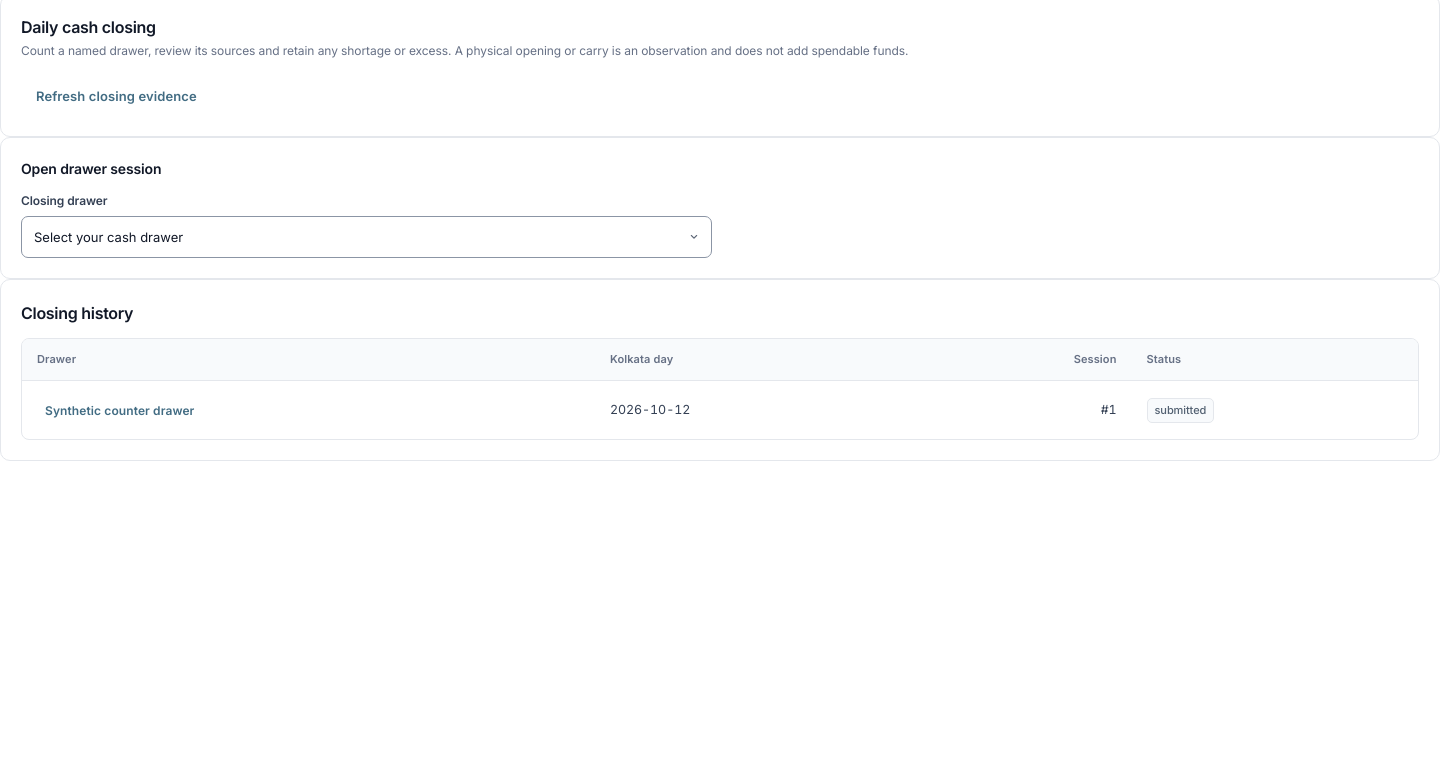
it: cash closing controlled transport and evidence validation › requires labelled sole-admin acknowledgment and distinguishes the persisted review mode
The image size is (1440, 784).
Click the button with aria-label "Synthetic counter drawer ·" at (120, 410), box [37, 393, 202, 427]
(page scrolled)
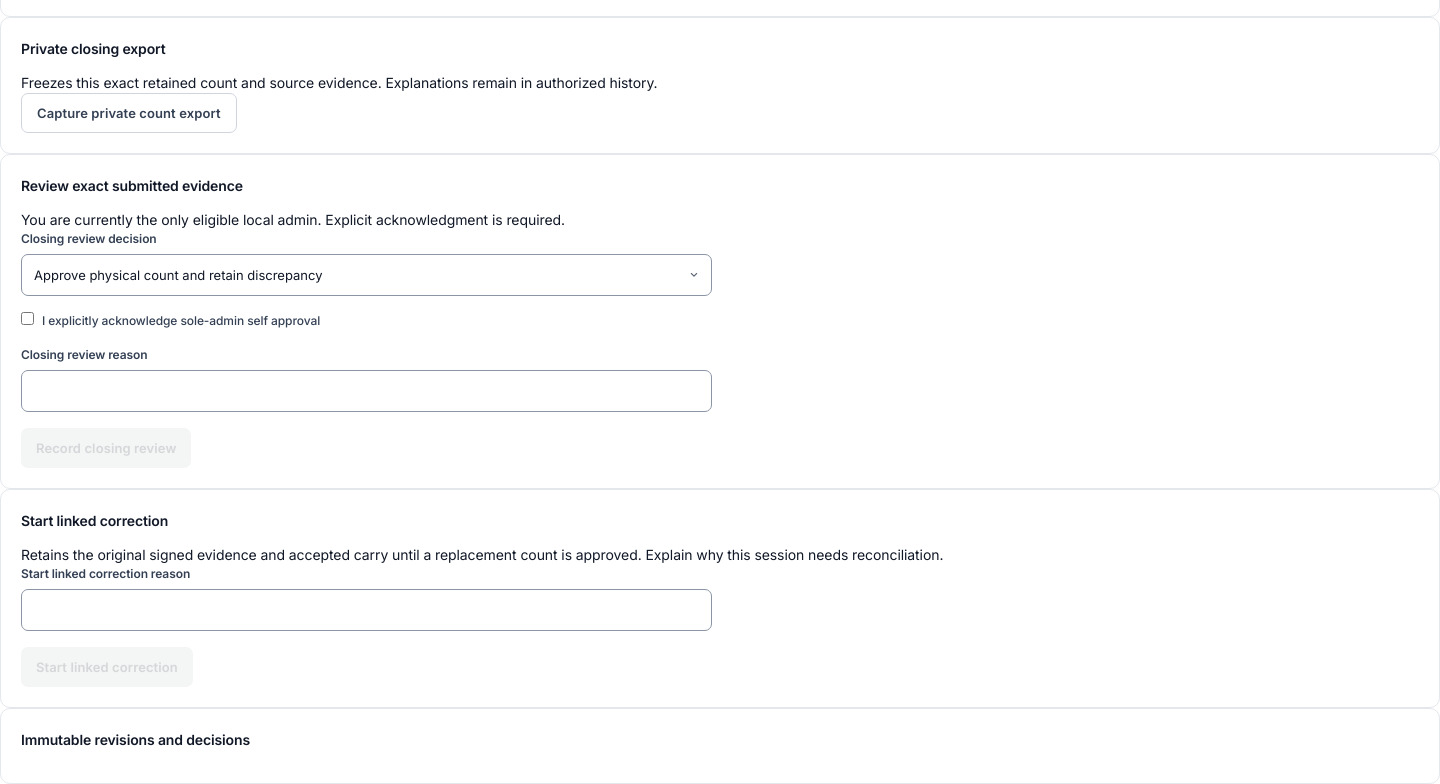
Type "Reviewed all source and count evidence" into the field labelled "Closing review reason" at (366, 391), box [21, 370, 712, 412]
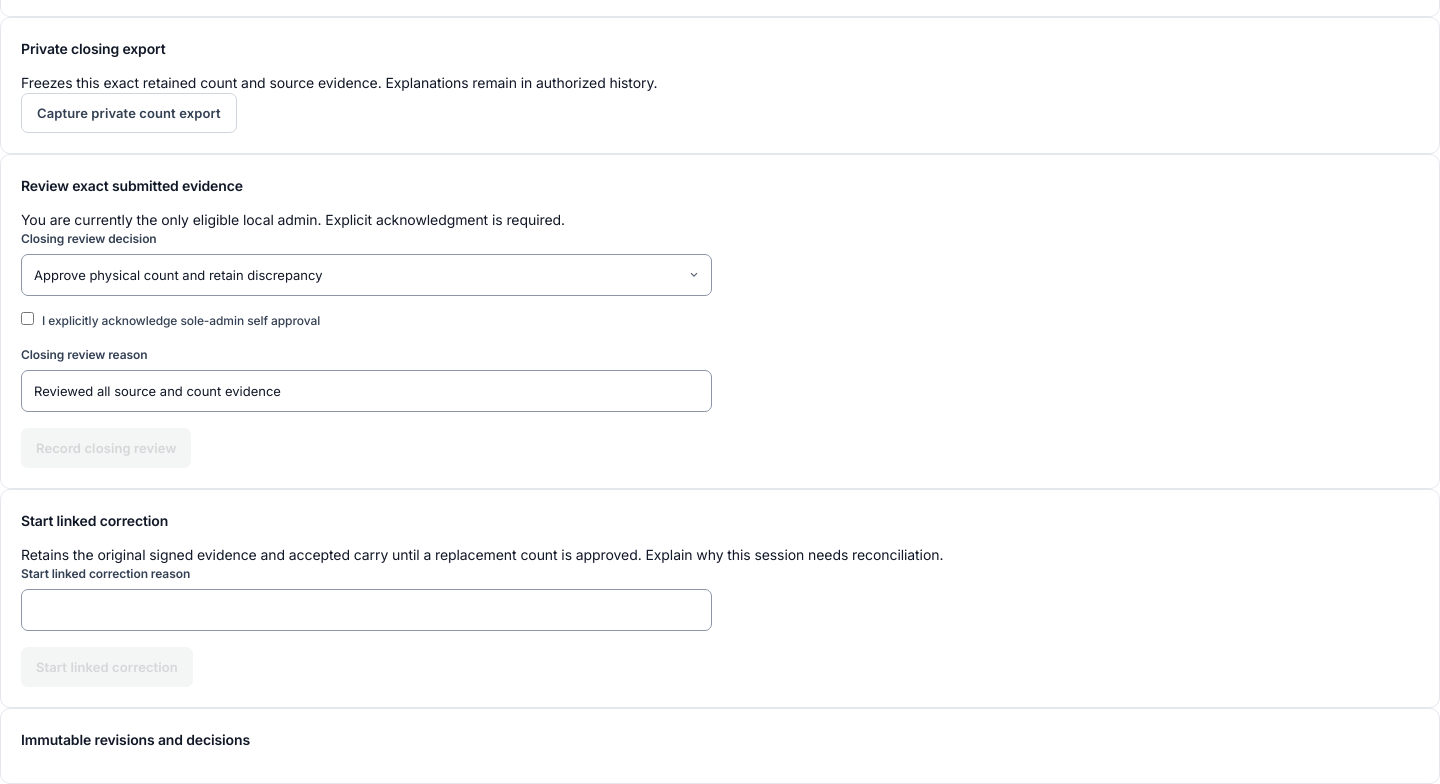
Result: the button "Record closing review" is disabled at [21, 428, 191, 468]
Click the checkbox labelled "I explicitly acknowledge sole-admin self approval" at (28, 318), box [21, 312, 34, 325]
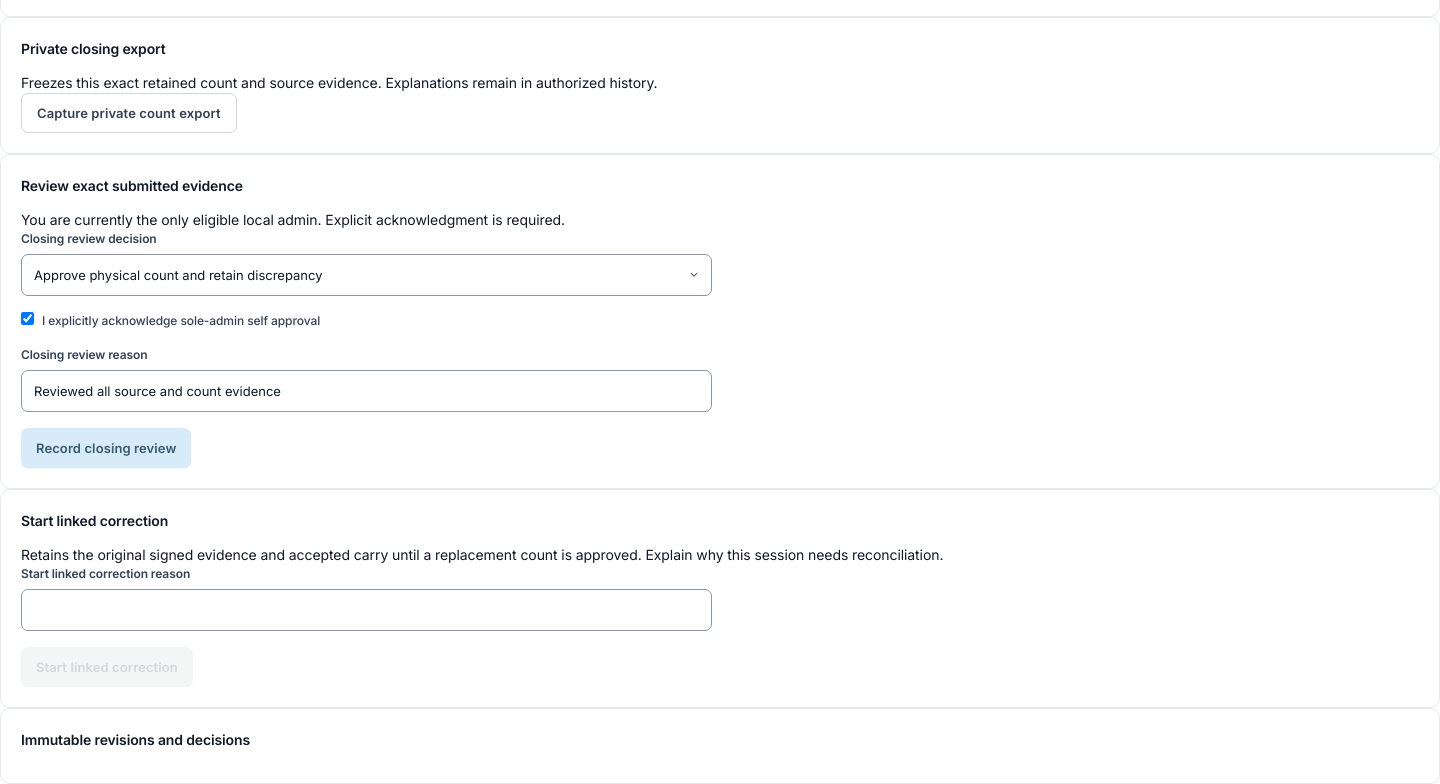
Click the button "Record closing review" at (106, 448), box [21, 428, 191, 468]
(page scrolled)
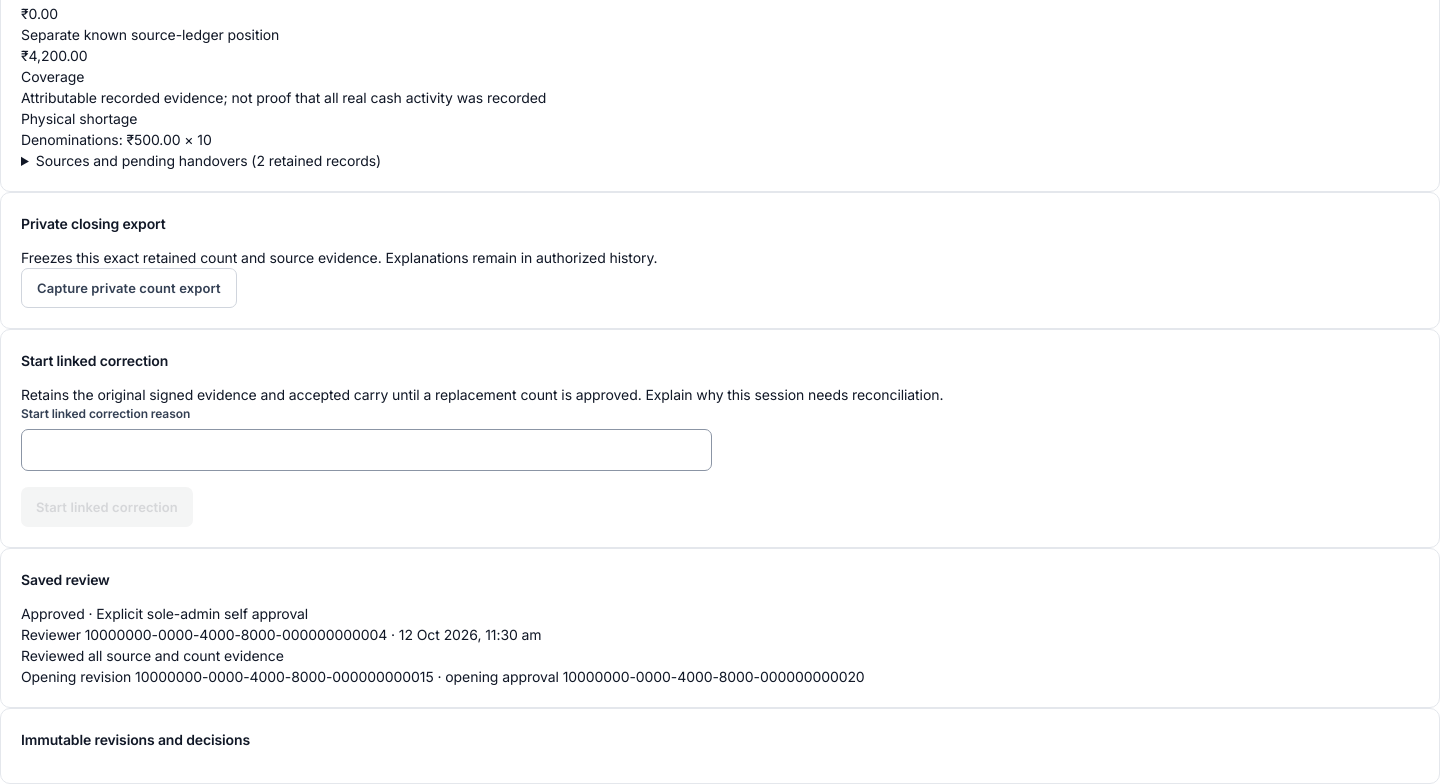
Result: the text "Approved · Explicit sole-admin self approval" is shown at [21, 605, 308, 622]
